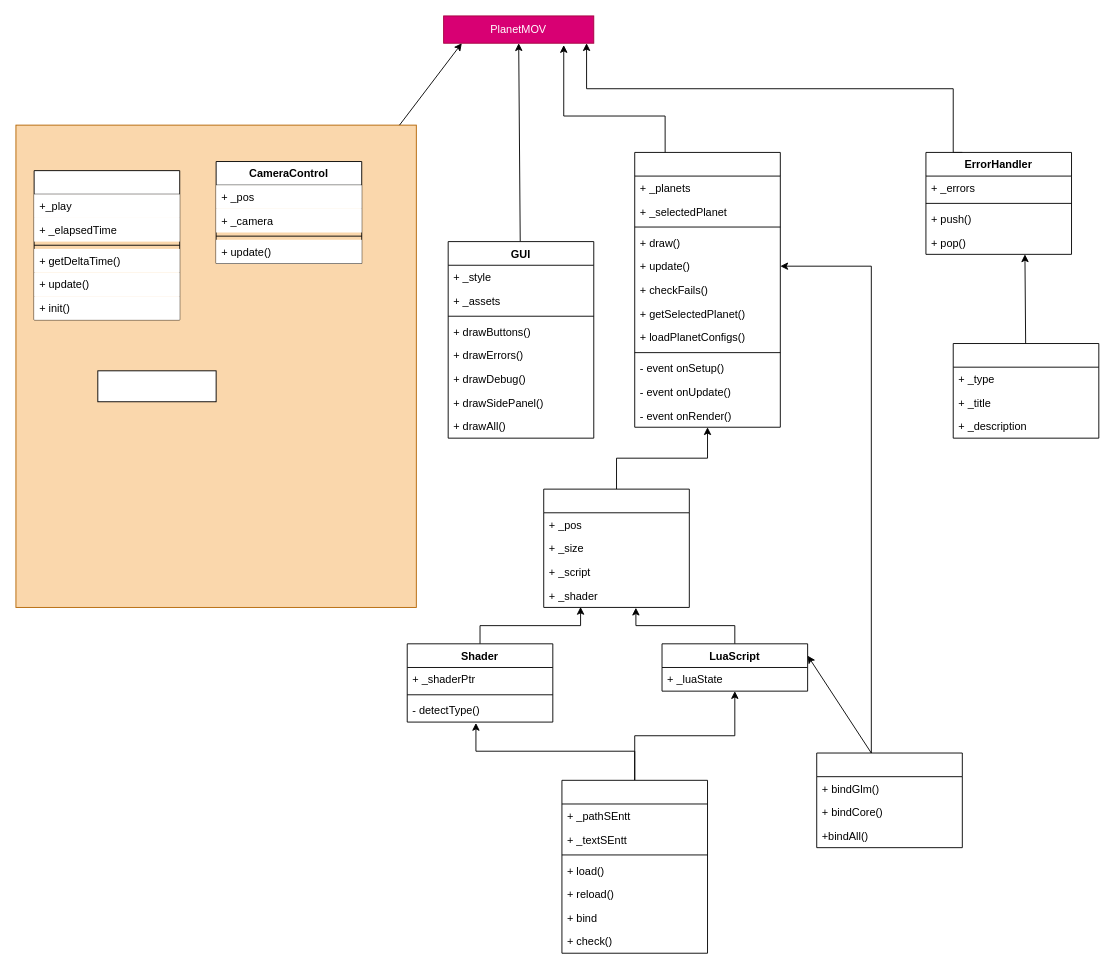
The diagram is 1115 pixels wide and 972 high, and some of its shapes have lost their labels. Each missing label, with the box of its shape:
Error: (952, 343, 1099, 438)
LuaContext: (816, 752, 962, 848)
Other: (97, 370, 216, 402)
Planet: (543, 488, 689, 607)
PlanetSystem: (634, 152, 780, 427)
ScriptableEntity: (561, 779, 708, 953)
TimeControl: (33, 170, 180, 320)
